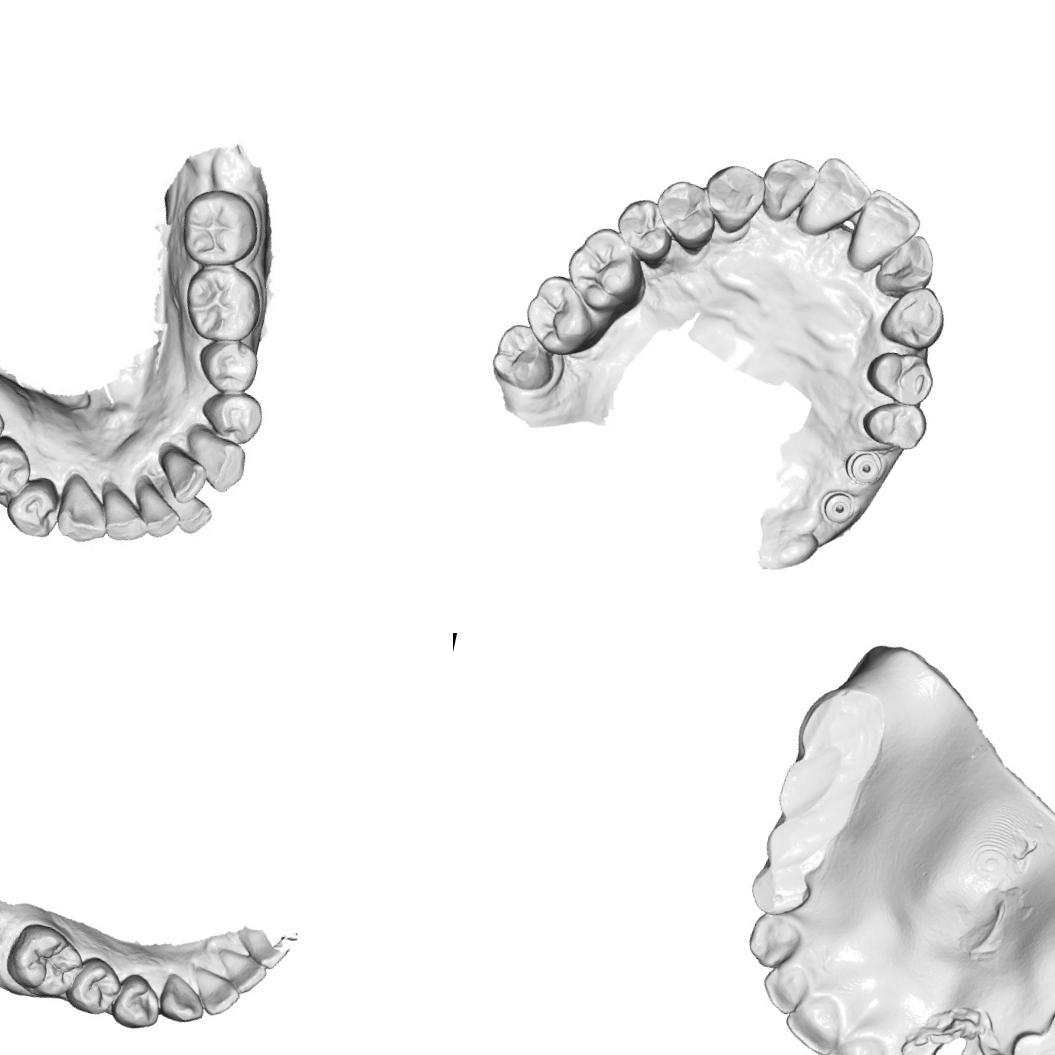canine: (696, 158, 770, 242), (876, 276, 954, 354), (50, 471, 118, 550), (180, 424, 252, 497), (742, 907, 810, 974), (156, 970, 212, 1028)
implant: (839, 442, 890, 490), (816, 484, 862, 530)
incisor: (791, 150, 879, 250), (841, 182, 928, 283), (868, 226, 941, 305), (755, 149, 824, 230), (777, 987, 846, 1055), (96, 478, 154, 548), (210, 946, 277, 1003), (150, 446, 212, 506), (756, 958, 814, 1020), (128, 479, 184, 542), (185, 965, 244, 1020), (166, 490, 216, 540), (819, 1026, 892, 1055)
molar: (558, 219, 656, 322), (517, 268, 616, 365), (173, 180, 266, 274), (175, 260, 268, 348), (0, 917, 90, 1004), (486, 316, 565, 398)
premolar: (645, 173, 726, 258), (607, 192, 682, 272), (859, 343, 941, 412), (855, 392, 933, 456), (0, 470, 67, 544), (191, 334, 261, 399), (198, 385, 268, 450), (62, 952, 126, 1020), (107, 969, 167, 1035), (0, 431, 38, 504)
